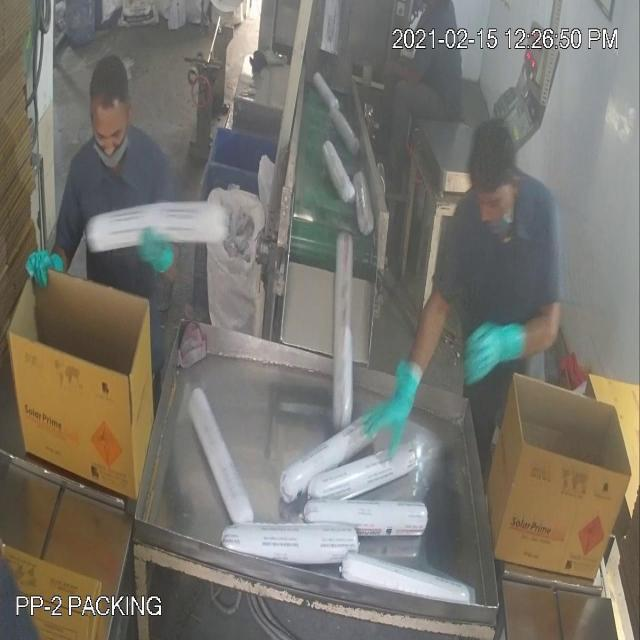Gloves: (45, 52, 489, 404)
